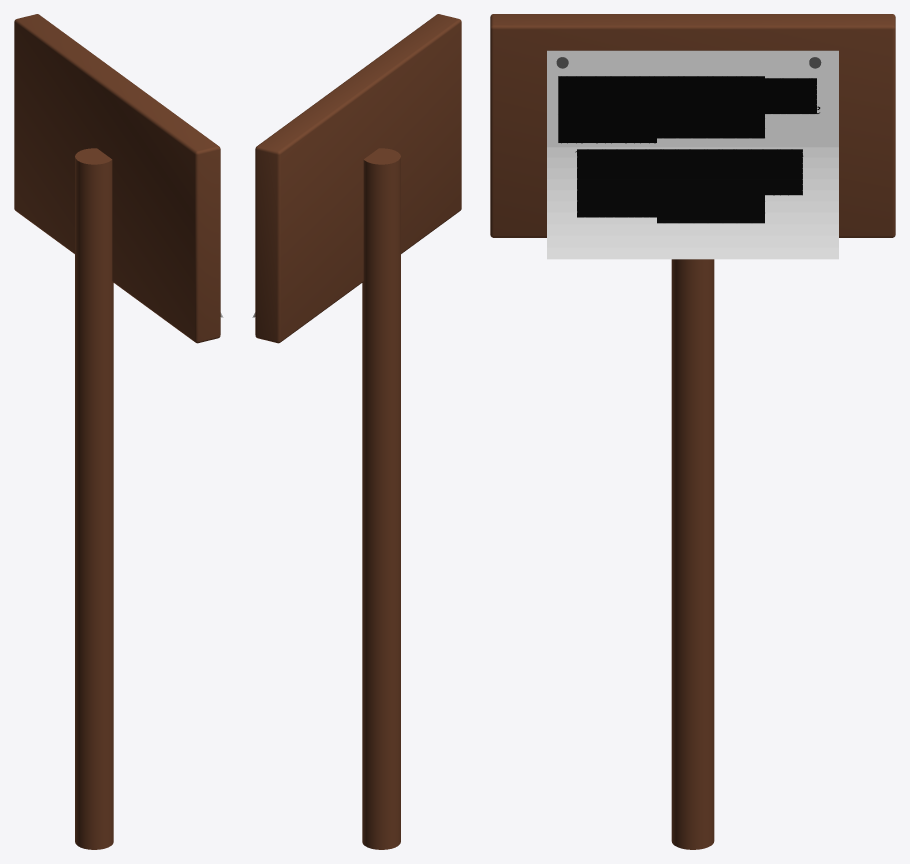
The model's file is sign4.fbx.
3 renders of one model, left to right at view 1: azimuth 30°, elevation 25°; view 2: azimuth 150°, elevation 25°; view 3: azimuth 270°, elevation 25°, orthographic. The views are drawn at different scales.
Parts seen in each view (by area): view 1: Cube, Cylinder; view 2: Cube, Cylinder; view 3: Plane_1_1, Cube, Cylinder.
Boxes of the visible parts, <box> form: Cube: <box>14,14,220,343</box>; Cylinder: <box>75,148,113,849</box>; Cube: <box>255,14,461,343</box>; Cylinder: <box>362,148,400,849</box>; Plane_1_1: <box>547,51,838,259</box>; Cube: <box>490,14,895,237</box>; Cylinder: <box>671,259,714,849</box>.
Size of the model in its own units: 30.69 by 276 by 122.
Materials: 4 (1 with a texture image).
